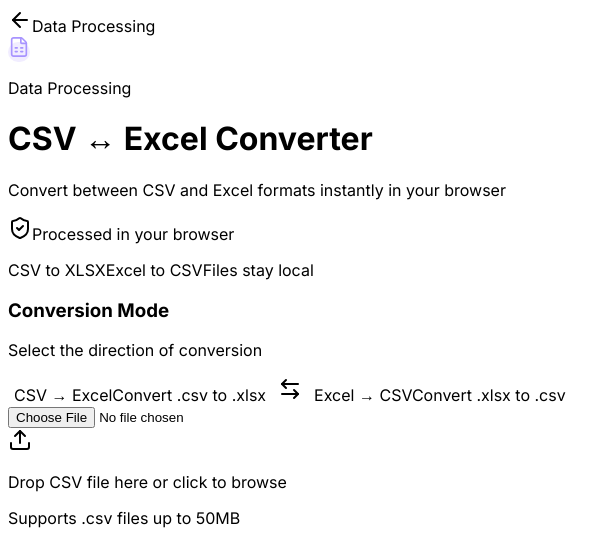
CSVExcelConverterPage › Mode Selection › switches to Excel to CSV mode when clicking the button
Step 1. Click the button "Excel → CSV" → [440, 395], box [308,384,572,406]
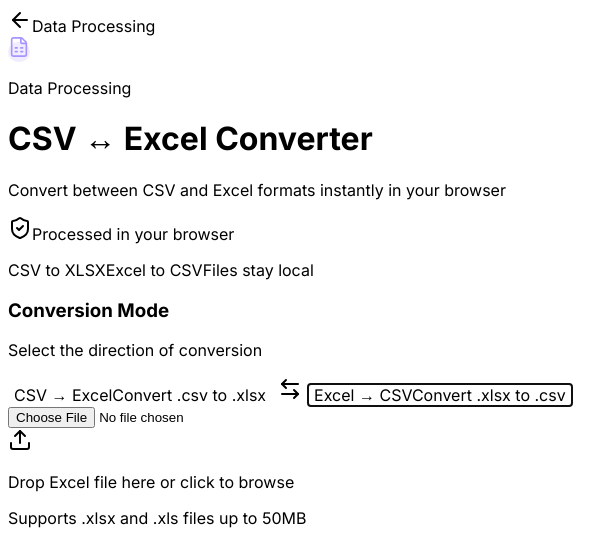
Now the text "Drop Excel file here or click to browse" is shown, box [8,472,294,492]
Now the text "Supports .xlsx and .xls files up to 50MB" is shown, box [8,508,306,528]
